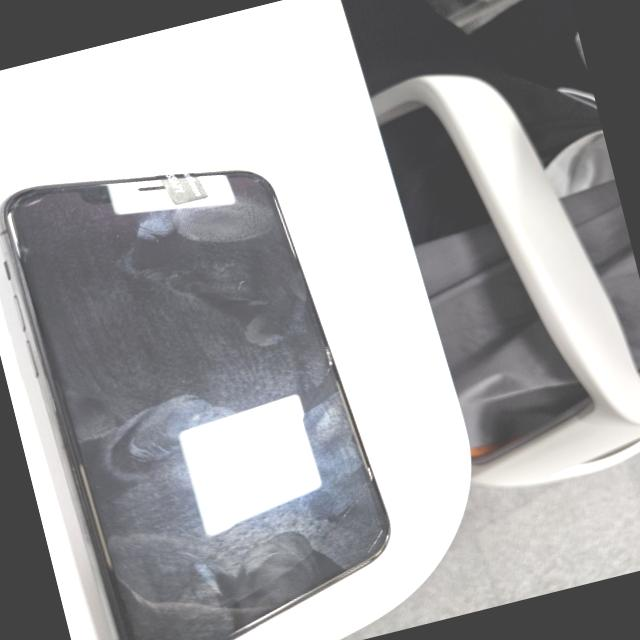phone: (0, 121, 413, 640)
sticker: (159, 166, 206, 207)
